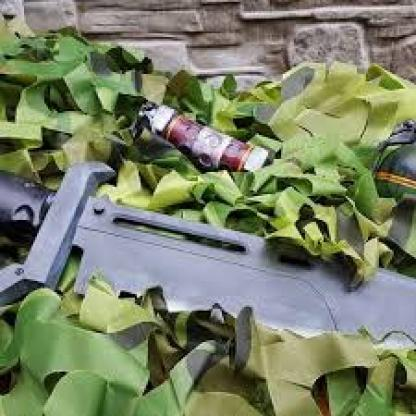Grenade: (133, 98, 271, 175), (371, 118, 416, 204)
Knife: (1, 160, 416, 347)
